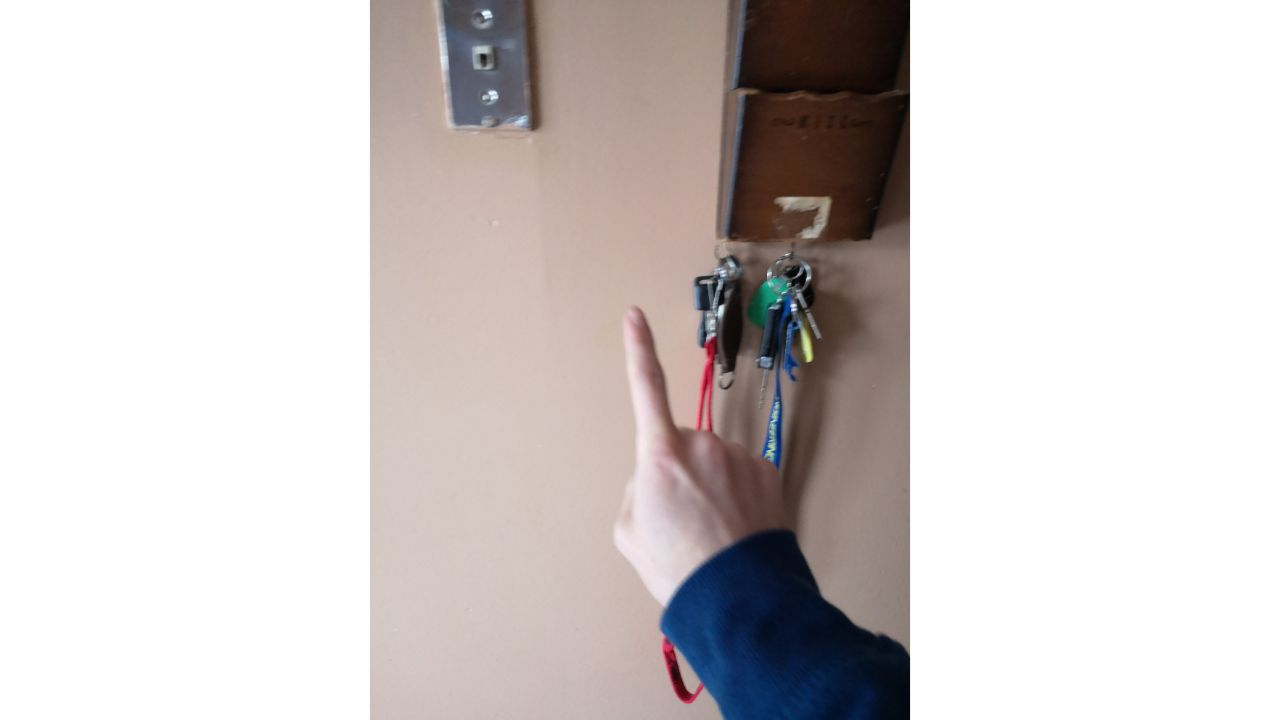finger: (610, 306, 795, 626)
